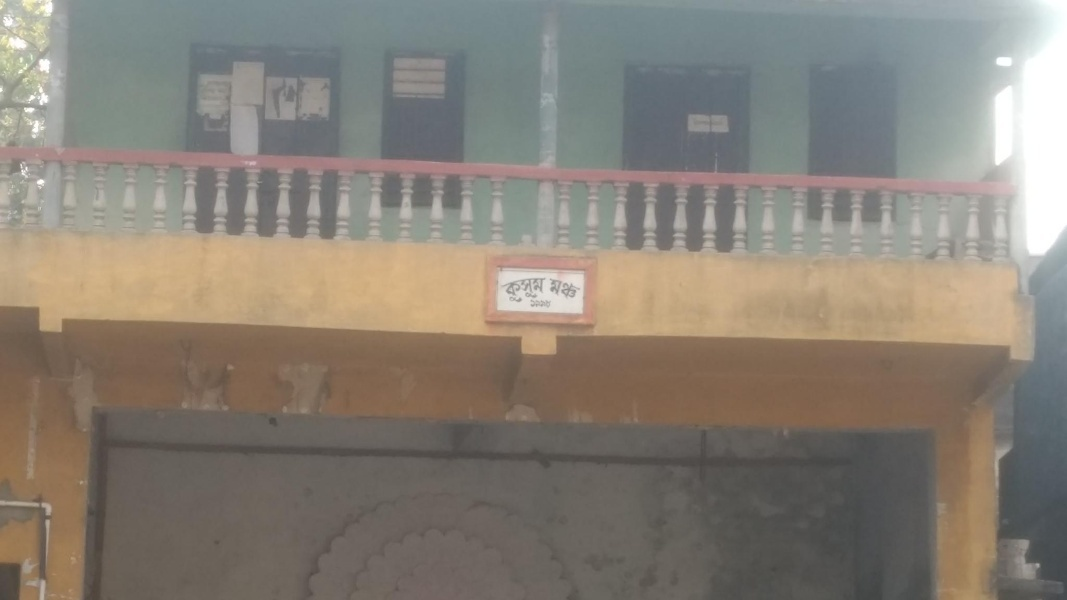text: (513, 274, 528, 307), (529, 274, 544, 307), (498, 274, 512, 307), (561, 278, 576, 302), (209, 83, 224, 104), (549, 278, 560, 302), (705, 116, 720, 132), (529, 298, 544, 312), (691, 116, 704, 132), (721, 116, 733, 132), (225, 83, 233, 104), (577, 278, 583, 302), (545, 298, 555, 312), (545, 274, 549, 307), (202, 83, 208, 104)
